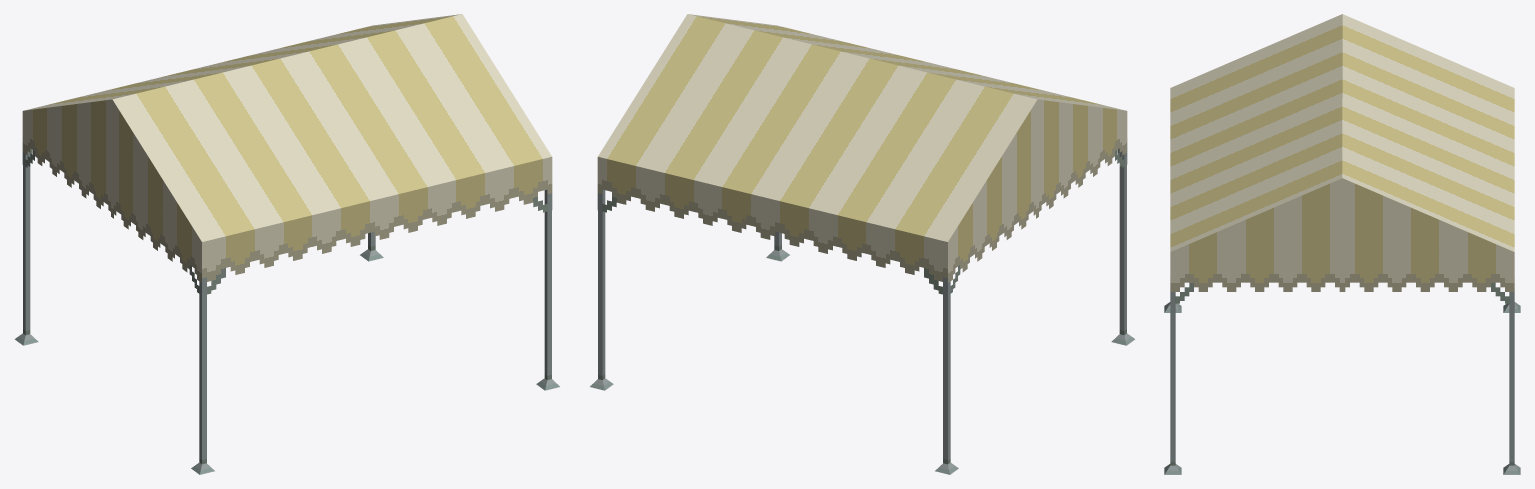
File: 00cf_Matsuri_Tent.glb
3 views of the same model, side by side, from view 1: azimuth 30°, elevation 25°; view 2: azimuth 150°, elevation 25°; view 3: azimuth 270°, elevation 25° (orthographic). The views are drawn at different scales.
Parts seen in each view (by area): view 1: part_0; view 2: part_0; view 3: part_0.
Boxes of the visible parts, bbox=[...] form: part_0: bbox=[14, 14, 559, 474]; part_0: bbox=[590, 14, 1135, 474]; part_0: bbox=[1164, 14, 1520, 474].
Bounding box in the file's own units: 3.89 × 3.16 × 3.47.
Materials: 1 (1 with a texture image).
